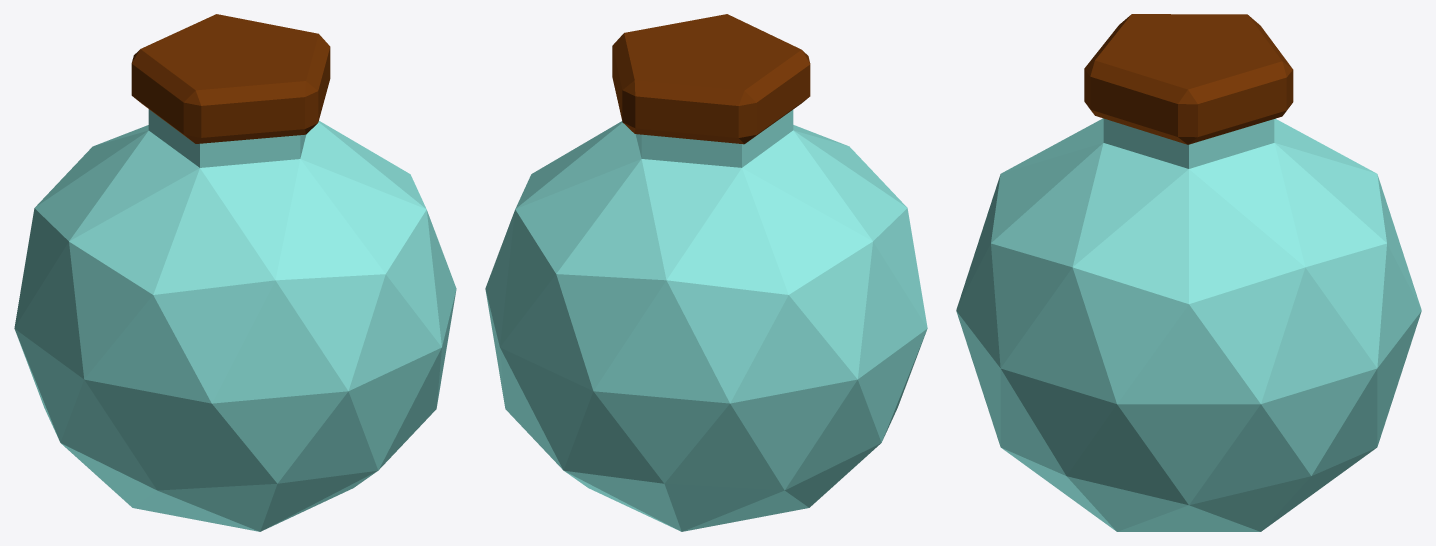
The model's file is better iso flask.glb.
The picture shows the model from 3 angles, left to right: view 1: azimuth 30°, elevation 25°; view 2: azimuth 150°, elevation 25°; view 3: azimuth 270°, elevation 25°; orthographic projection. The views are drawn at different scales.
Parts seen in each view (by area): view 1: glass, cap; view 2: glass, cap; view 3: glass, cap.
Part boxes in pixels (left/top/right/bottom): glass: left=14, top=109, right=456, bottom=531; cap: left=131, top=14, right=330, bottom=143; glass: left=485, top=110, right=927, bottom=531; cap: left=612, top=14, right=810, bottom=144; glass: left=956, top=118, right=1421, bottom=531; cap: left=1084, top=14, right=1293, bottom=144.
Bounding box in the file's own units: 1.9 × 2.24 × 2.
